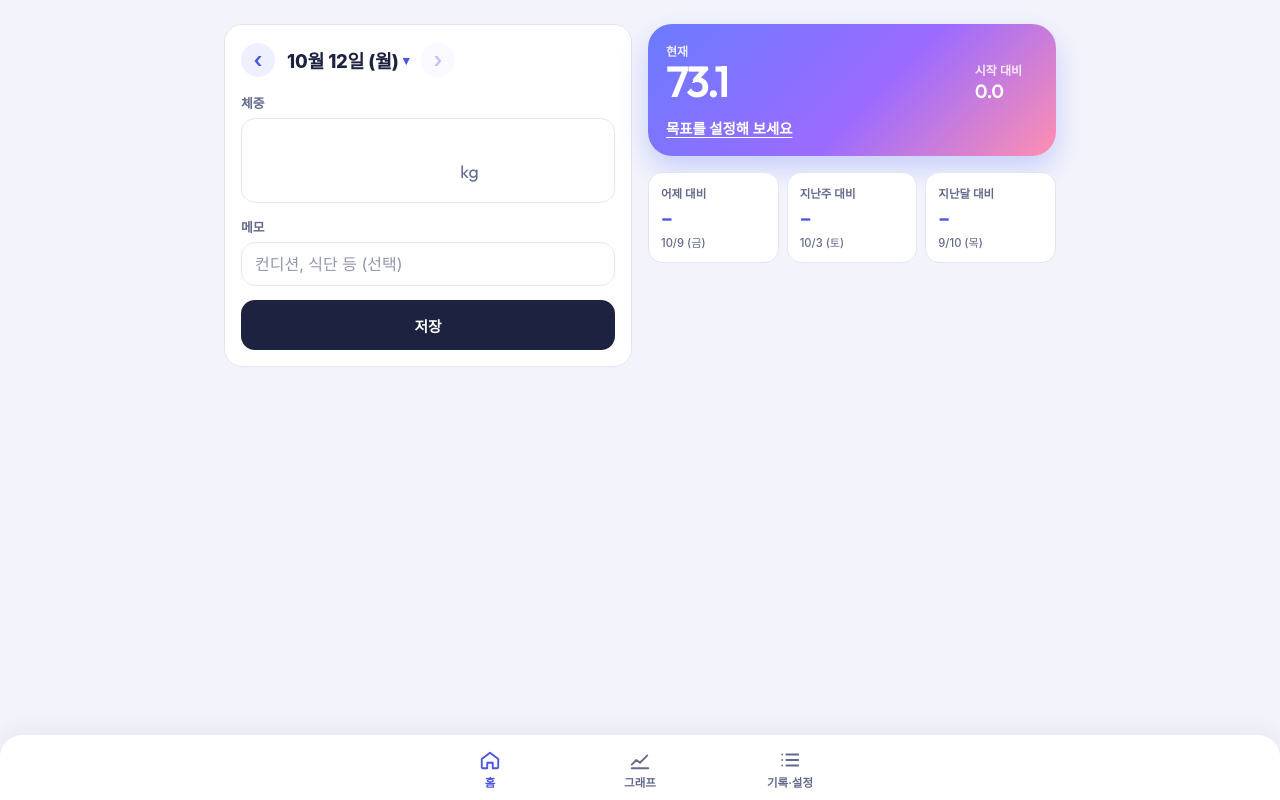
home screen › loads the existing memo when a past date is selected
Expected: the navigation bar is shown, [0, 735, 1279, 799]
In the date field named "날짜": (348, 60) [279, 41, 417, 79], type "2026-10-10"
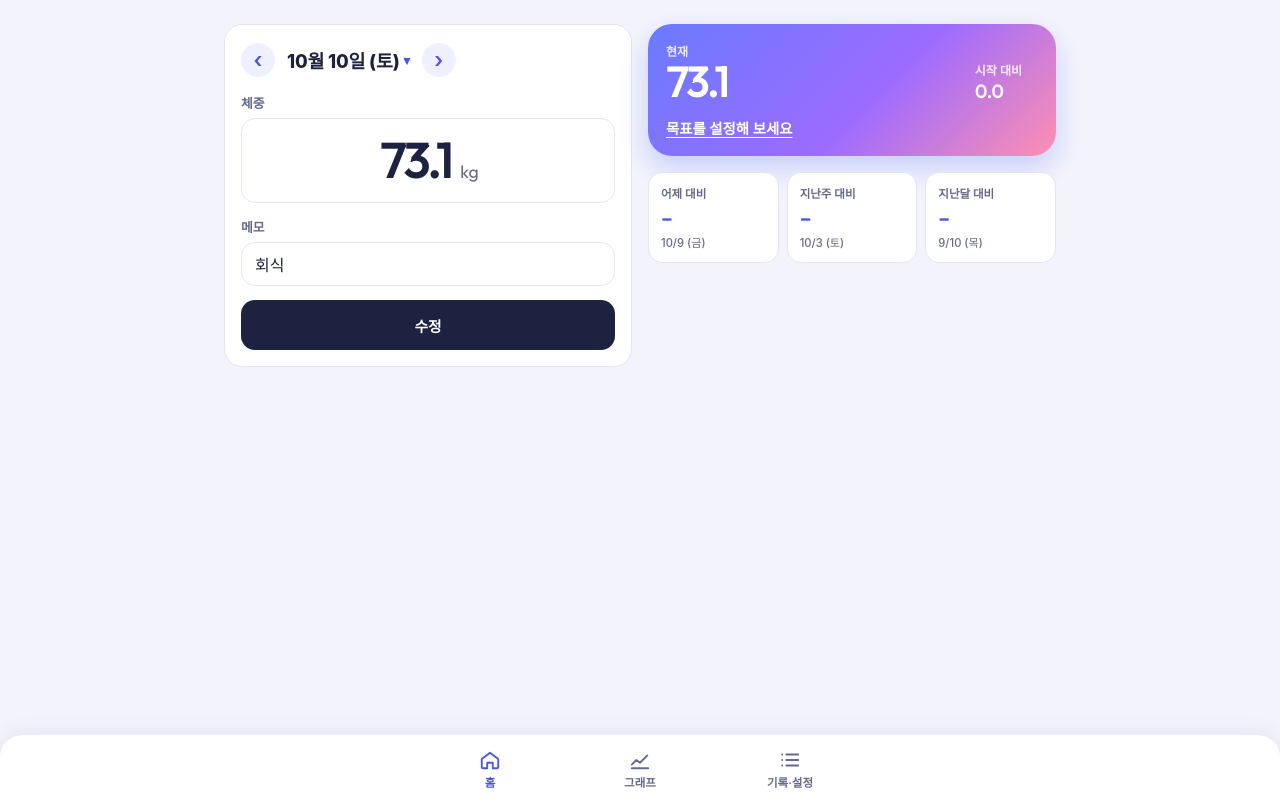
Expected: the field named "체중(kg)" holds "73.1", [377, 133, 454, 188]
Expected: the field labelled "메모" holds "회식", [241, 242, 615, 286]
Expected: the button "10월 10일 (토) ▾" is shown, [279, 41, 418, 79]
